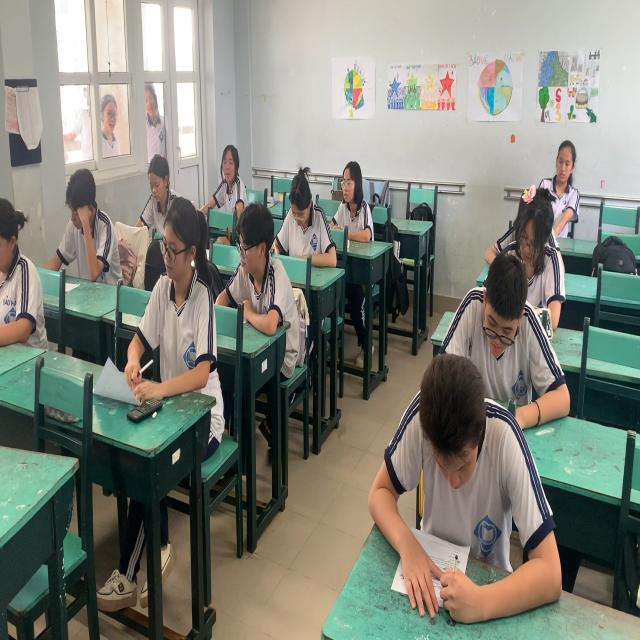not_cheating: (376, 362, 582, 530), (119, 194, 229, 432), (440, 237, 560, 441), (208, 183, 308, 382), (46, 145, 138, 327), (494, 173, 570, 350), (273, 134, 360, 288), (314, 134, 399, 282), (110, 130, 196, 272), (173, 106, 254, 245), (0, 172, 52, 373), (542, 119, 583, 298)
